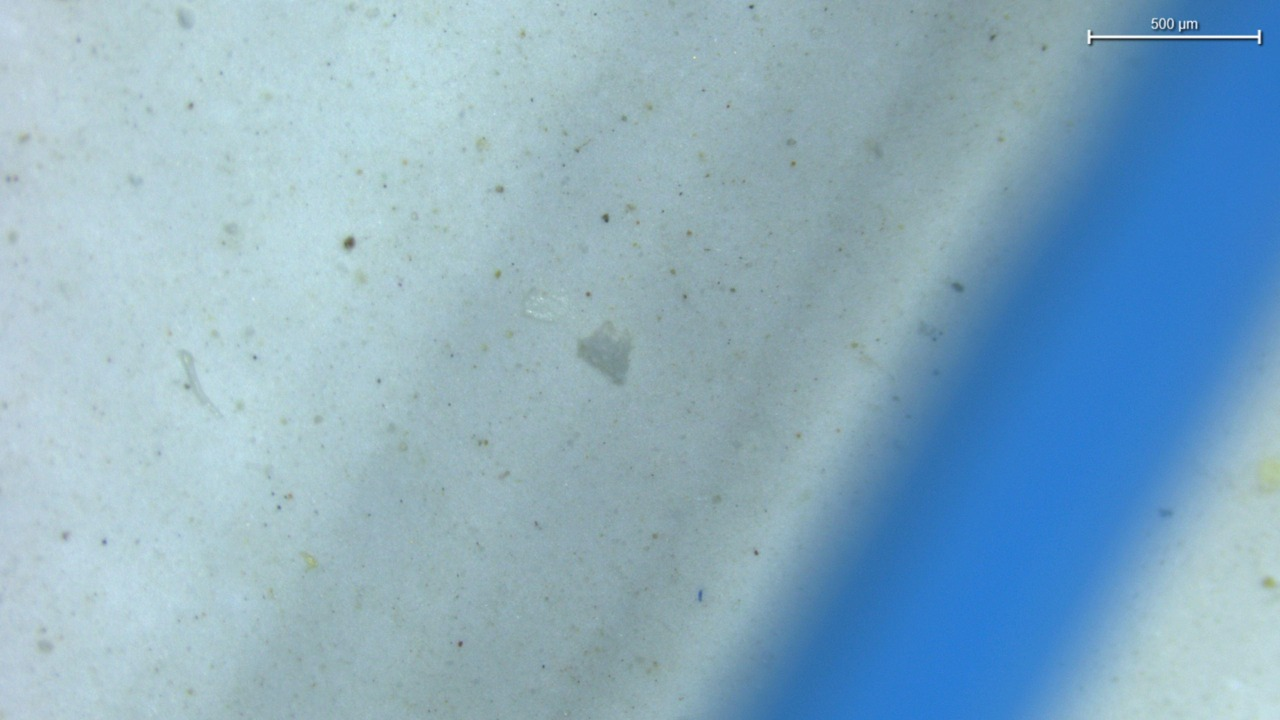microplastic_fragment: (577, 321, 632, 384)
